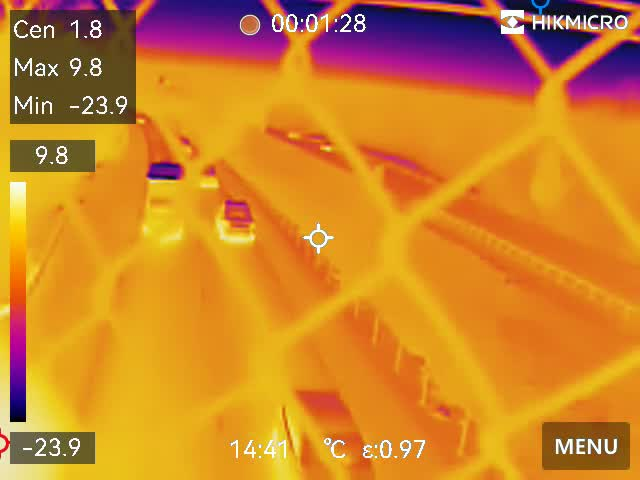heavyTruck: (143, 160, 188, 238)
vehicle: (273, 393, 380, 480), (215, 190, 259, 246), (196, 162, 221, 191)
